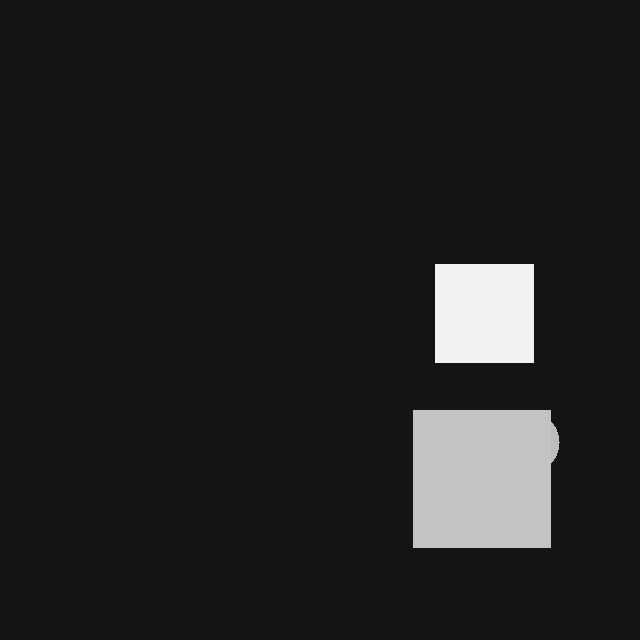circle: (497, 411, 559, 473)
square: (413, 410, 550, 547), (435, 264, 533, 362)
